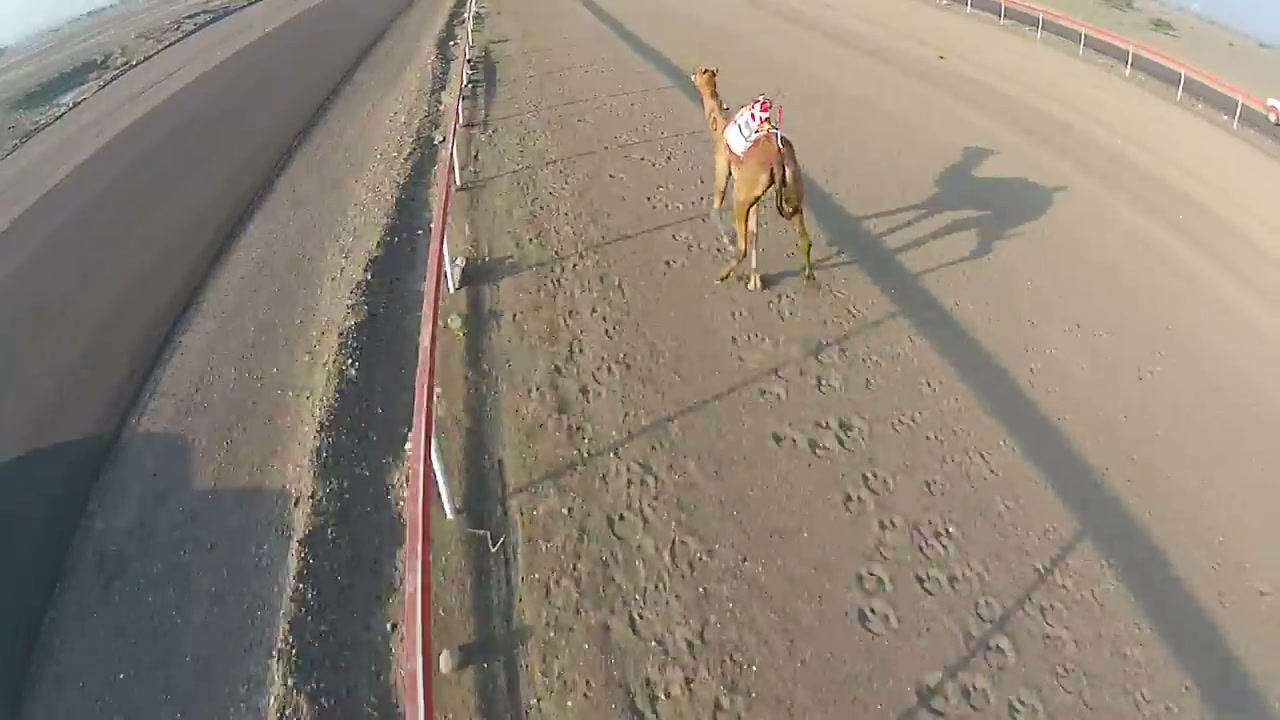animal_footprint: (916, 563, 981, 596), (916, 671, 960, 716), (815, 415, 869, 451), (913, 518, 957, 562), (851, 597, 899, 636), (874, 513, 908, 559), (956, 673, 994, 712), (944, 561, 985, 595), (1054, 662, 1087, 701), (855, 562, 893, 595), (982, 633, 1015, 670), (1006, 690, 1045, 719), (590, 359, 628, 387), (609, 510, 643, 541), (1043, 627, 1077, 656), (915, 567, 947, 596), (842, 488, 875, 516), (861, 469, 895, 496), (768, 292, 797, 321), (973, 596, 1003, 624), (757, 376, 786, 404), (814, 341, 847, 365), (770, 425, 804, 448), (890, 411, 925, 433), (1038, 600, 1065, 627), (814, 372, 843, 394), (804, 436, 832, 458), (730, 331, 767, 347), (923, 475, 947, 498), (663, 256, 689, 270), (729, 306, 748, 320)
